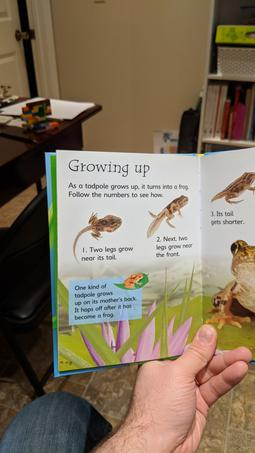text block: (69, 277, 139, 326), (62, 177, 194, 200), (64, 153, 154, 179), (71, 240, 138, 266), (149, 232, 195, 261), (203, 205, 249, 229)
